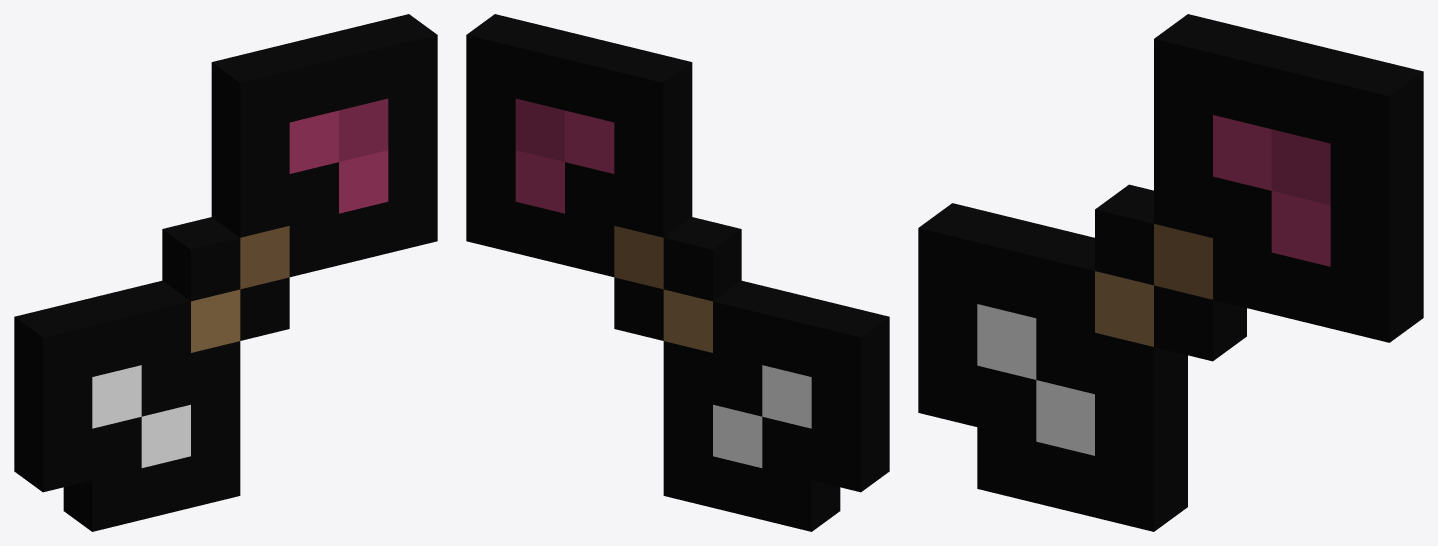
File: Arrow of Mining Yield.glb
The picture shows the model from 3 angles, left to right: view 1: azimuth 30°, elevation 25°; view 2: azimuth 150°, elevation 25°; view 3: azimuth 330°, elevation 25°; orthographic projection. The views are drawn at different scales.
Visible parts, largest first — view 1: generated(Clone); view 2: generated(Clone); view 3: generated(Clone).
Part boxes in pixels (x1,y1,x2,y2): generated(Clone): [14, 14, 437, 531]; generated(Clone): [466, 14, 889, 531]; generated(Clone): [918, 14, 1423, 531].
Size of the model in its own units: 8 by 8 by 1.
1 material, 1 textured.
